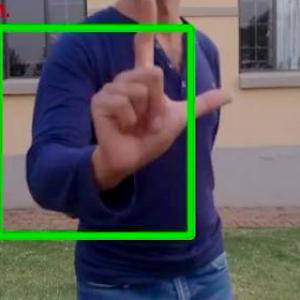land_hand: (88, 0, 236, 182)
